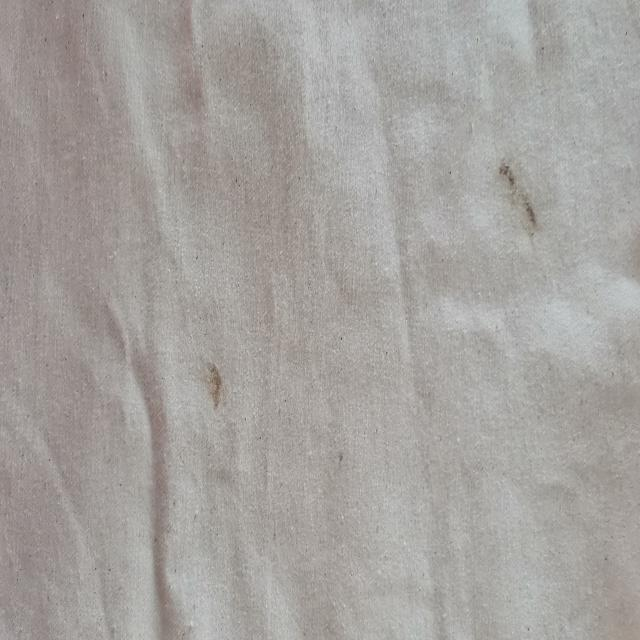taaaches: (490, 138, 546, 244), (203, 344, 230, 412)
